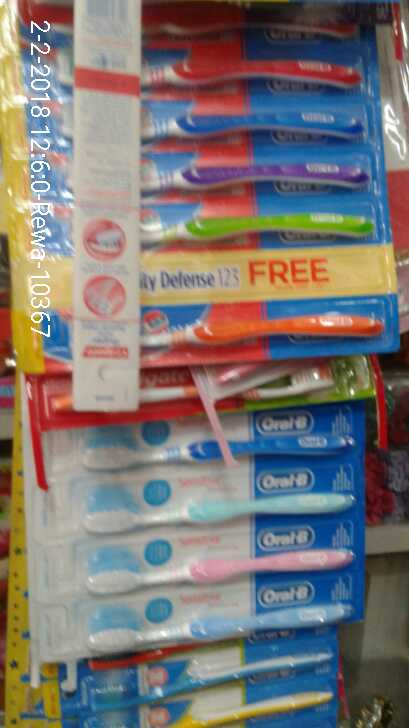oralb: (64, 587, 362, 647), (70, 485, 358, 541), (66, 543, 364, 591), (75, 419, 369, 466)
